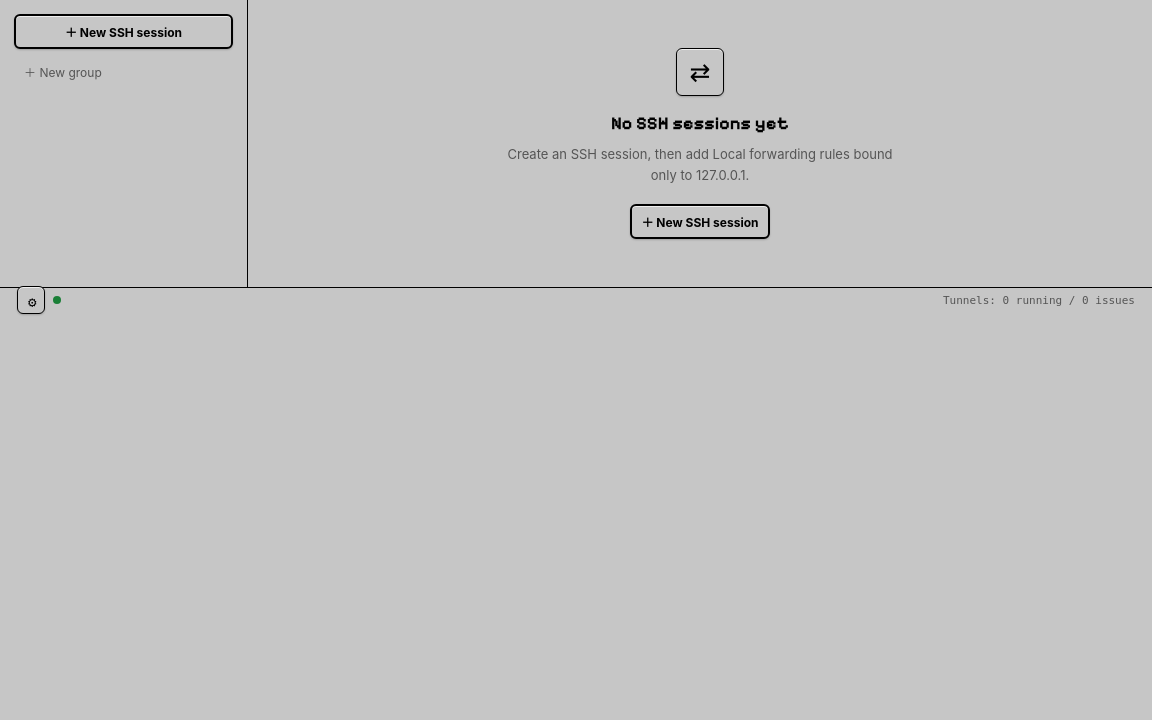
Test: App › shows a success toast after changing the master password
Click the button with test id "config-button".
click(31, 300)  # box [17, 286, 45, 314]
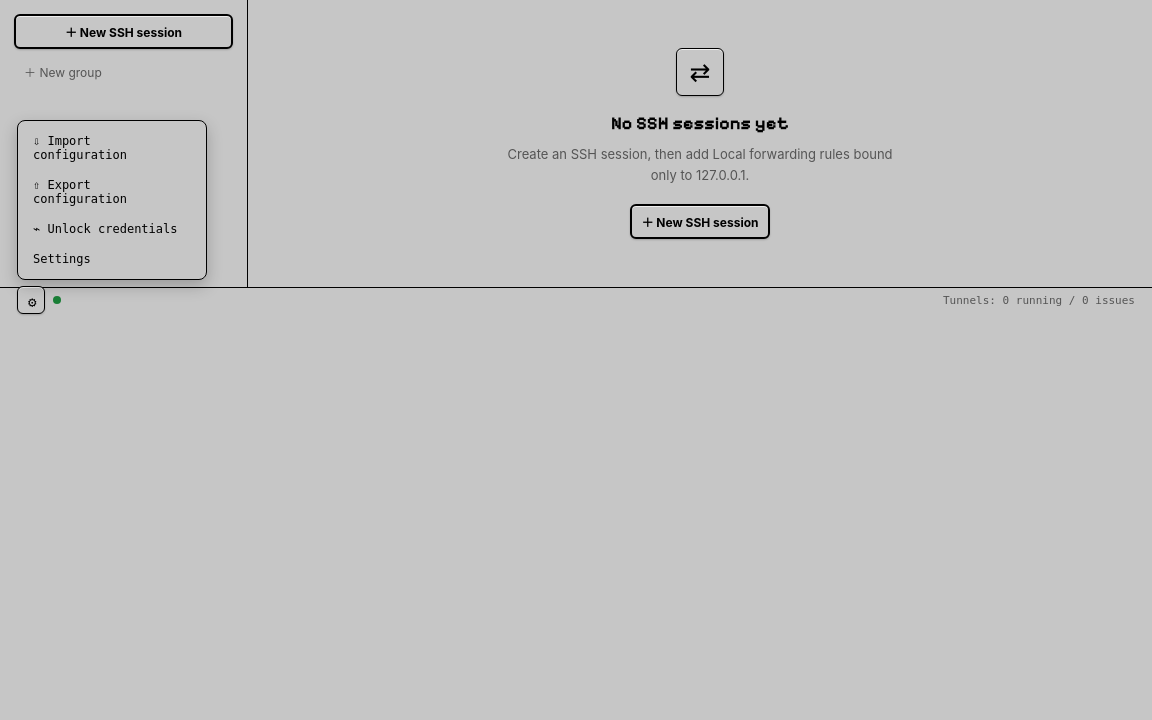
Click the menu item with test id "config-settings".
click(112, 259)  # box [23, 244, 201, 274]
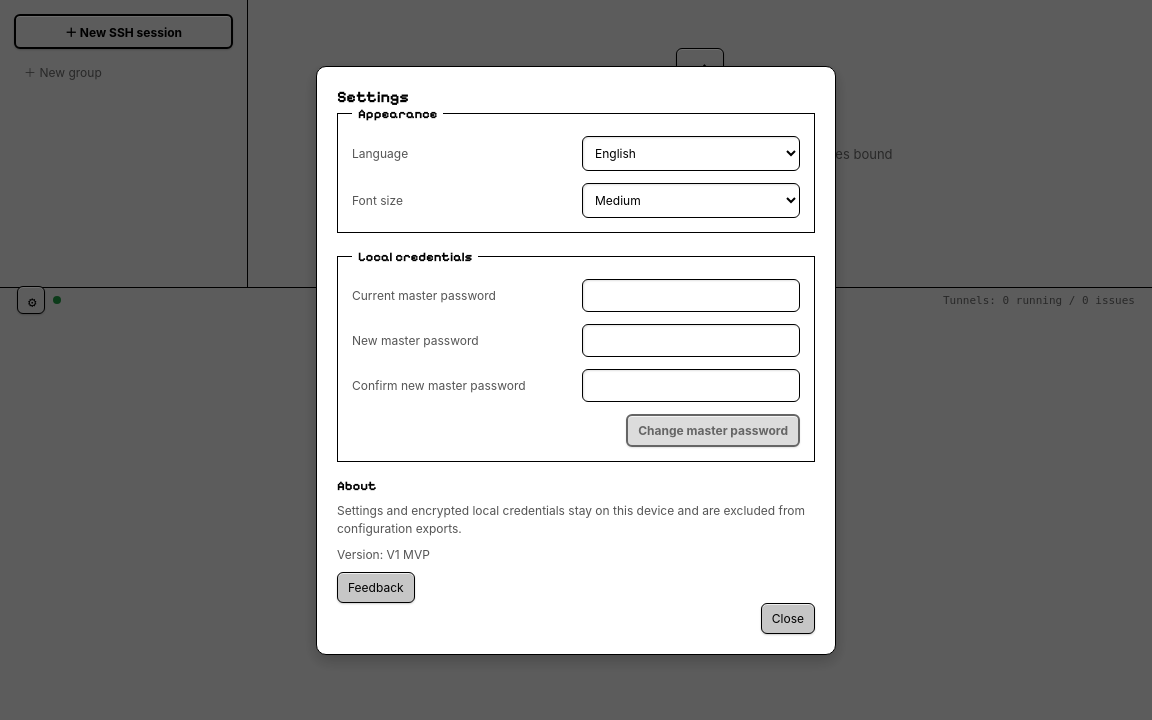
Type "old master" into the password field named "Current master password".
click(691, 295); type("old master")  # box [582, 278, 800, 312]
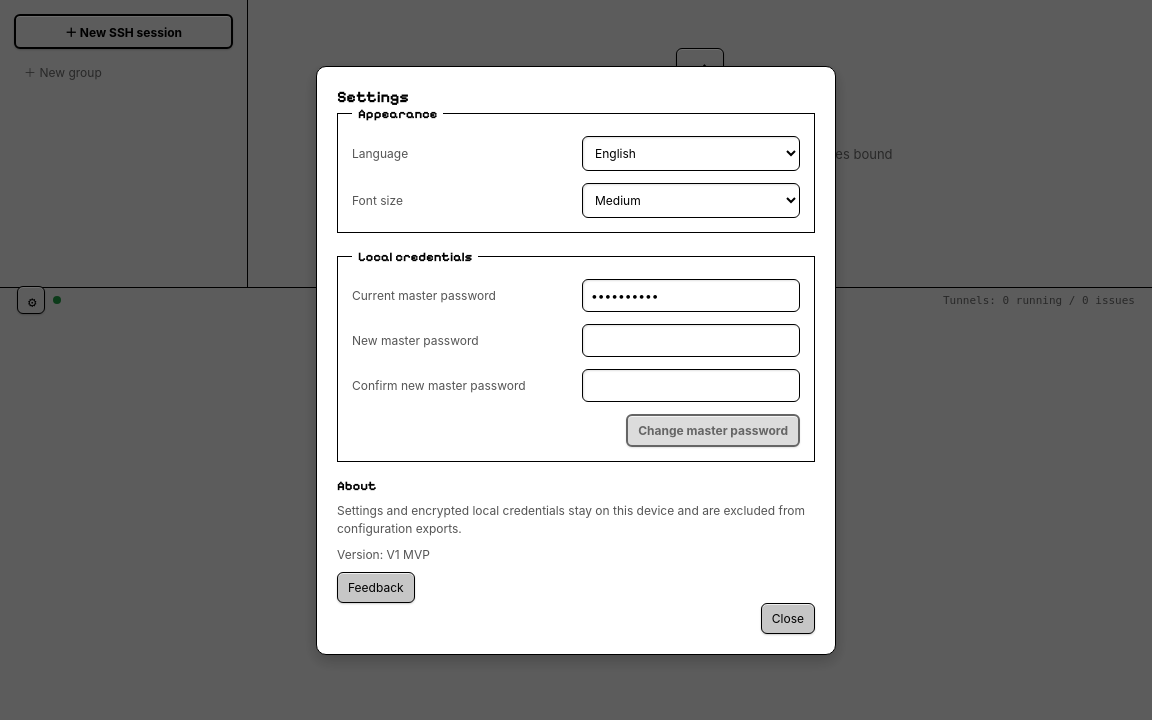
Type "new master" into the password field named "New master password".
click(691, 340); type("new master")  # box [582, 324, 800, 356]
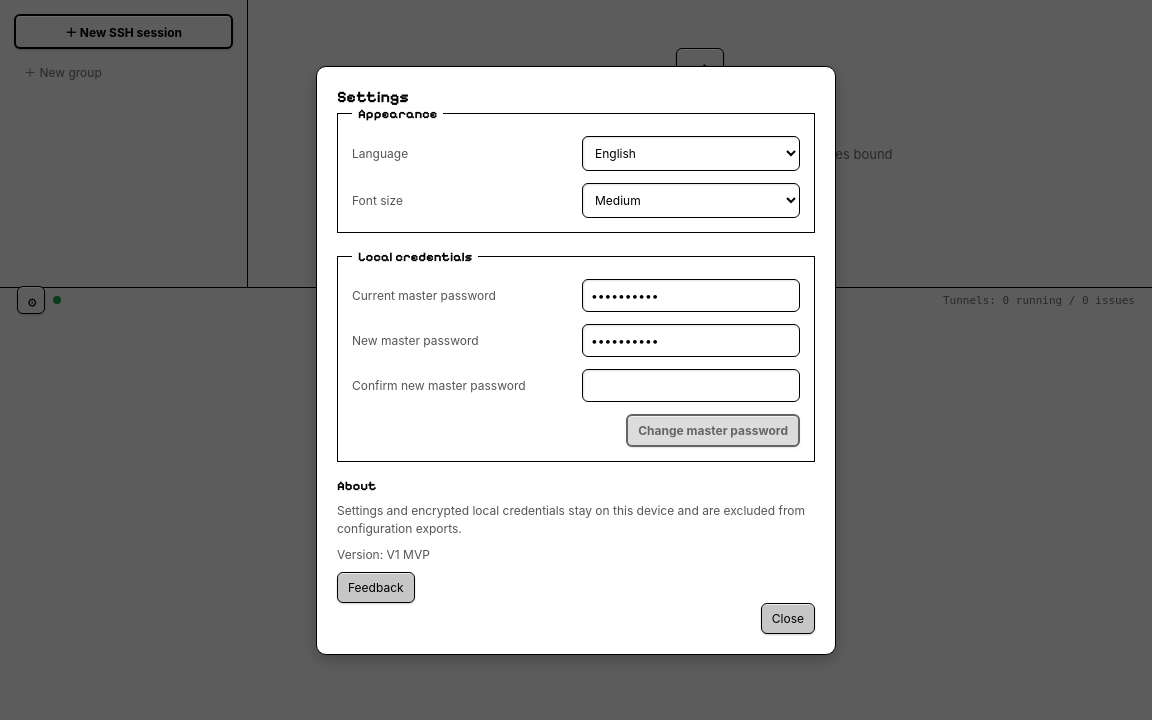
Type "new master" into the password field named "Confirm new master password".
click(691, 385); type("new master")  # box [582, 368, 800, 402]
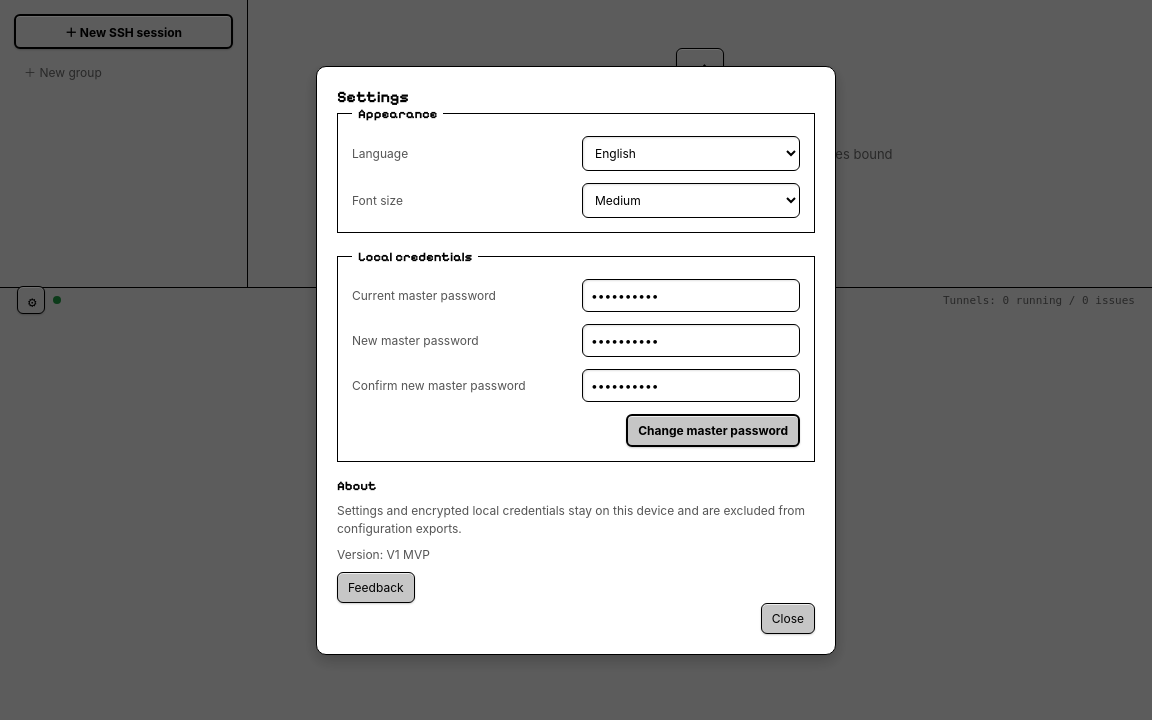
Click the button with test id "change-master-password".
click(713, 430)  # box [626, 414, 800, 446]
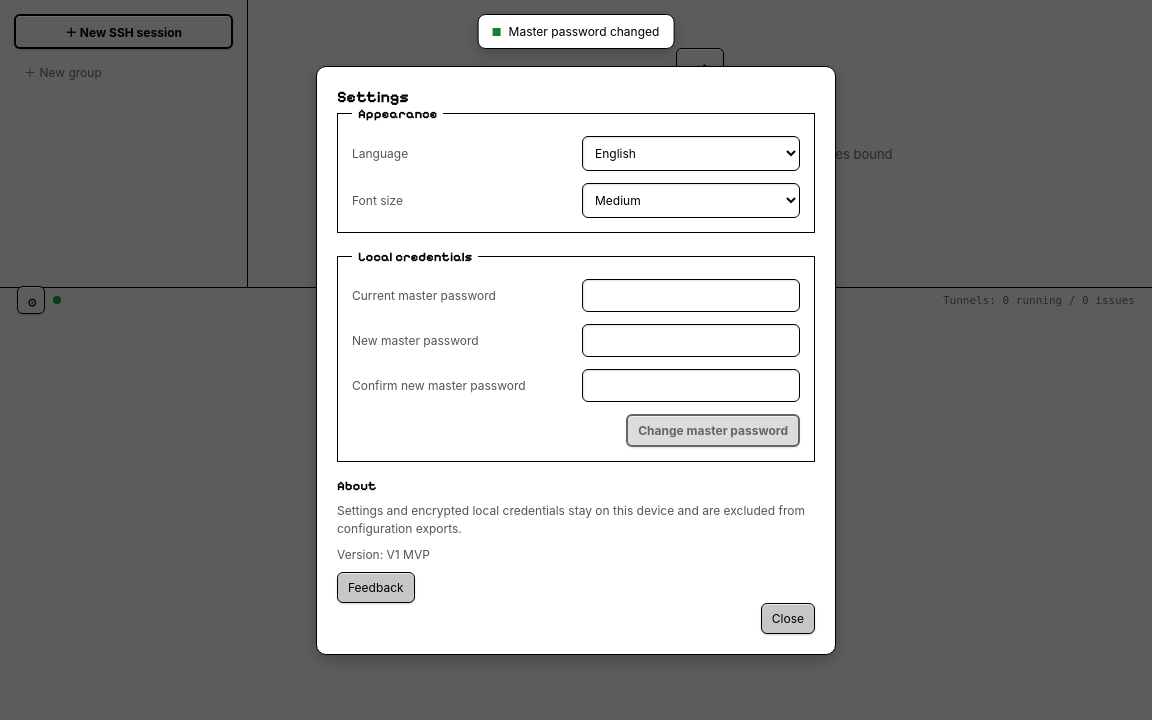
Now the element with test id "toast-stack" reads "Master password changed", box [509, 24, 659, 39]
